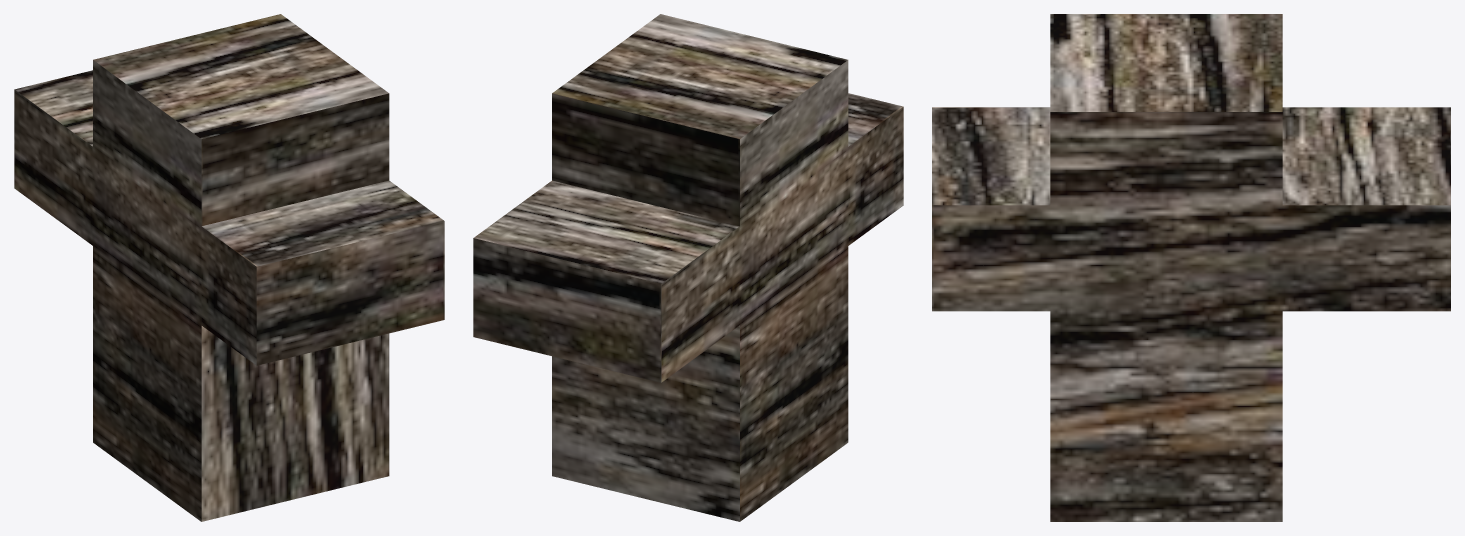
The model's file is kreuz.dae.
3 views of the same model, side by side, from view 1: azimuth 30°, elevation 25°; view 2: azimuth 150°, elevation 25°; view 3: azimuth 270°, elevation 25° (orthographic). The views are drawn at different scales.
Visible parts, largest first — view 1: Cube; view 2: Cube; view 3: Cube.
Part boxes in pixels (x1,y1,x2,y2): Cube: (14,14,444,521); Cube: (473,14,903,521); Cube: (932,14,1450,521).
Size of the model in its own units: 2 by 4.47 by 3.89.
Materials: 1 (1 with a texture image).
